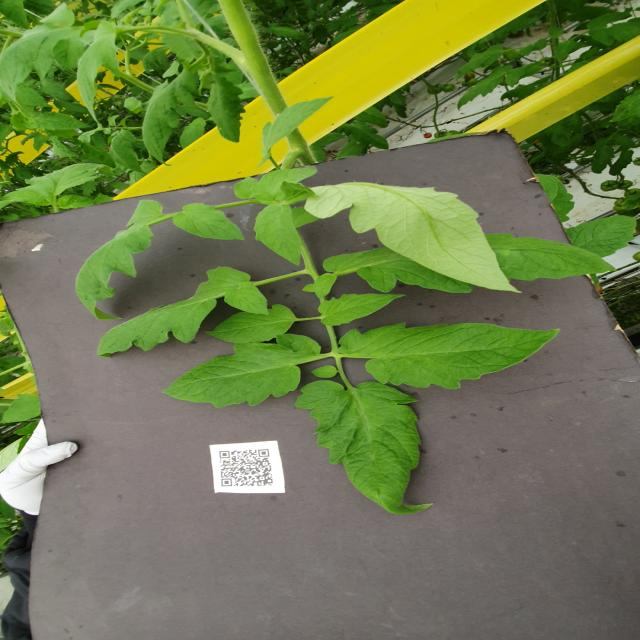Healthy Leaf: (304, 180, 524, 294), (292, 380, 432, 515), (319, 232, 620, 293), (92, 266, 269, 357), (337, 322, 561, 389), (162, 333, 322, 408), (73, 201, 168, 321), (0, 2, 84, 106), (139, 59, 201, 168), (256, 96, 335, 166), (203, 304, 296, 344), (454, 63, 526, 110), (16, 161, 105, 198), (253, 204, 302, 266), (566, 212, 640, 253), (233, 165, 319, 200), (318, 293, 408, 326), (172, 202, 245, 240), (206, 76, 247, 143), (453, 42, 505, 80), (108, 129, 149, 174), (342, 120, 390, 151), (57, 193, 94, 209)
